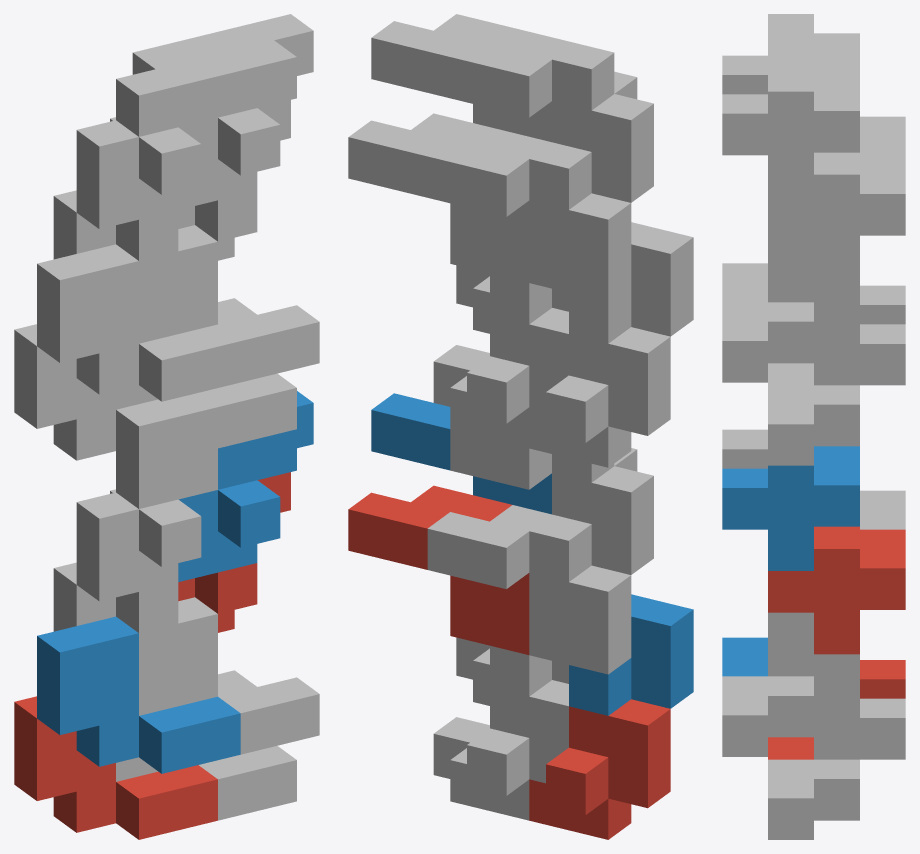
Rendered from tiling.obj.
3 renders of one model, left to right at view 1: azimuth 30°, elevation 25°; view 2: azimuth 150°, elevation 25°; view 3: azimuth 270°, elevation 25°, orthographic.
Visible parts, largest first — view 1: copy_2_domain_4, copy_1_domain_4, copy_1_domain_2, copy_2_domain_2, copy_2_domain_8, copy_1_domain_3, copy_1_domain_1, copy_1_domain_6, copy_1_domain_8, copy_2_domain_6, copy_1_domain_5, copy_1_domain_7 (+4 smaller); view 2: copy_2_domain_1, copy_2_domain_3, copy_2_domain_4, copy_1_domain_1, copy_1_domain_3, copy_2_domain_2, copy_1_domain_7, copy_1_domain_5, copy_2_domain_7, copy_2_domain_5, copy_1_domain_2, copy_1_domain_4 (+4 smaller); view 3: copy_1_domain_5, copy_1_domain_7, copy_2_domain_8, copy_2_domain_5, copy_2_domain_7, copy_2_domain_6, copy_1_domain_6, copy_1_domain_8, copy_2_domain_4, copy_1_domain_3, copy_1_domain_1, copy_1_domain_2 (+4 smaller).
Boxes of the visible parts, bbox=[...] form: copy_2_domain_4: bbox=[76, 33, 233, 229]; copy_1_domain_4: bbox=[37, 244, 240, 401]; copy_1_domain_2: bbox=[37, 616, 240, 773]; copy_2_domain_2: bbox=[76, 448, 217, 601]; copy_2_domain_8: bbox=[178, 14, 313, 209]; copy_1_domain_3: bbox=[14, 324, 217, 467]; copy_1_domain_1: bbox=[14, 696, 217, 839]; copy_1_domain_6: bbox=[139, 597, 319, 754]; copy_1_domain_8: bbox=[139, 225, 319, 382]; copy_2_domain_6: bbox=[178, 391, 313, 581]; copy_1_domain_5: bbox=[116, 746, 296, 820]; copy_1_domain_7: bbox=[116, 373, 296, 448]; copy_2_domain_1: bbox=[427, 505, 631, 674]; copy_2_domain_3: bbox=[427, 132, 631, 302]; copy_2_domain_4: bbox=[450, 33, 653, 202]; copy_1_domain_1: bbox=[529, 699, 670, 839]; copy_1_domain_3: bbox=[529, 327, 670, 467]; copy_2_domain_2: bbox=[450, 429, 653, 574]; copy_1_domain_7: bbox=[433, 308, 568, 448]; copy_1_domain_5: bbox=[433, 680, 568, 820]; copy_2_domain_7: bbox=[348, 113, 529, 282]; copy_2_domain_5: bbox=[348, 485, 529, 654]; copy_1_domain_2: bbox=[569, 594, 693, 715]; copy_1_domain_4: bbox=[569, 222, 693, 343]; copy_1_domain_5: bbox=[768, 676, 905, 839]; copy_1_domain_7: bbox=[768, 302, 905, 465]; copy_2_domain_8: bbox=[722, 52, 859, 196]; copy_2_domain_5: bbox=[768, 526, 905, 654]; copy_2_domain_7: bbox=[768, 152, 905, 279]; copy_2_domain_6: bbox=[722, 446, 859, 570]; copy_1_domain_6: bbox=[722, 612, 859, 756]; copy_1_domain_8: bbox=[722, 238, 859, 382]; copy_2_domain_4: bbox=[722, 14, 859, 94]; copy_1_domain_3: bbox=[768, 285, 905, 385]; copy_1_domain_1: bbox=[768, 660, 905, 759]; copy_1_domain_2: bbox=[722, 637, 767, 676].
Bounding box in the file's own units: 7 × 18 × 4.
